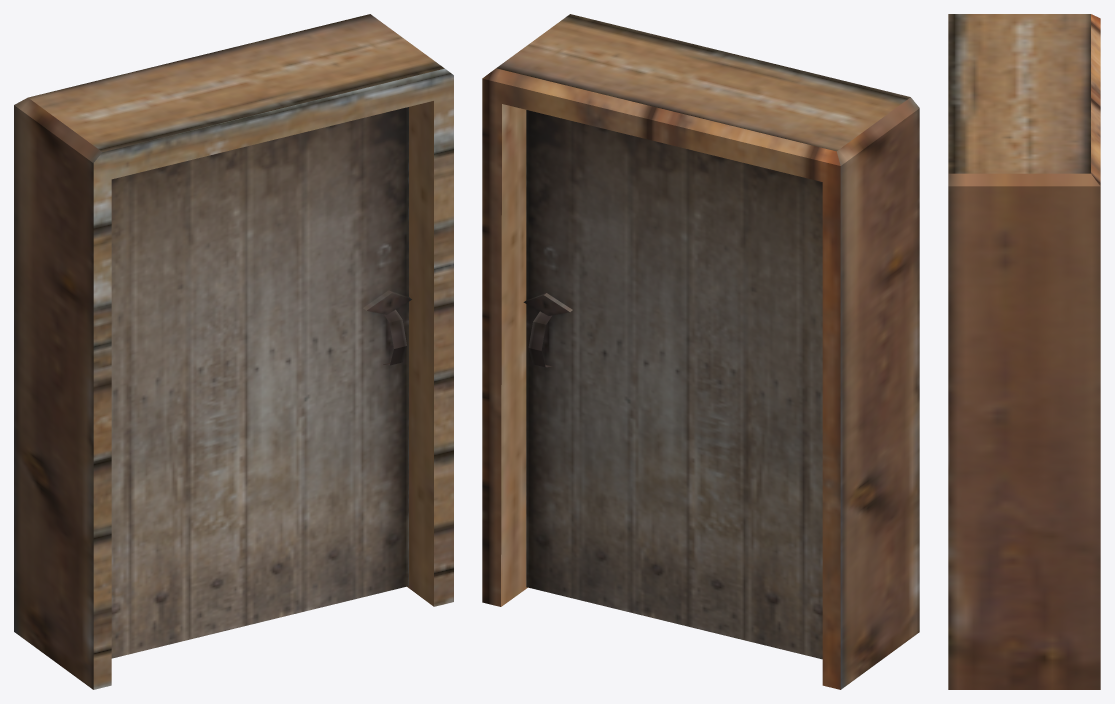
The model's file is Cabin_Door_Closed.obj.
The picture shows the model from 3 angles, left to right: view 1: azimuth 30°, elevation 25°; view 2: azimuth 150°, elevation 25°; view 3: azimuth 270°, elevation 25°; orthographic projection. The views are drawn at different scales.
Parts seen in each view (by area): view 1: LowPoly_Cube; view 2: LowPoly_Cube; view 3: LowPoly_Cube.
Boxes of the visible parts, x1,y1,x2,y2 form: LowPoly_Cube: (14, 14, 453, 689); LowPoly_Cube: (482, 14, 919, 689); LowPoly_Cube: (948, 14, 1100, 689).
Size of the model in its own units: 0.9859 by 1.4 by 0.3766.
